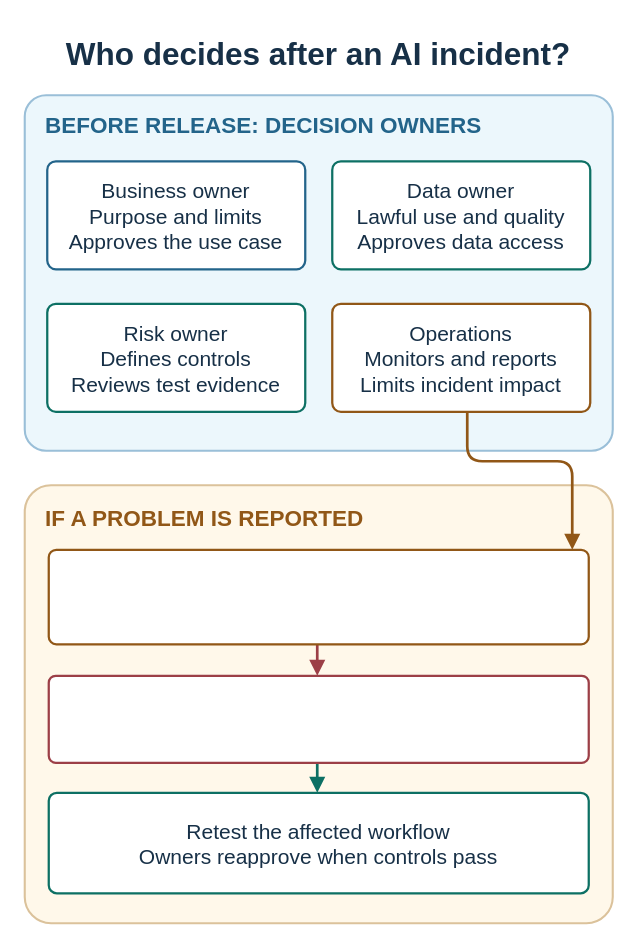
This 638x948 diagram has some shape labels left out. Here are the shapes that lost their labels. From the top down, the centre of each, then its label:
At (318,596): "Audit record What happened, who was affected, who owns it".
At (318,718): "Restrict use, then fix the cause Limit the change to the affected workflow".
